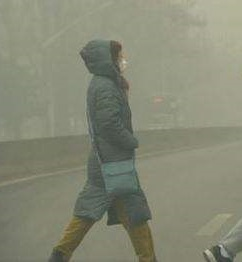person: (48, 35, 163, 262)
